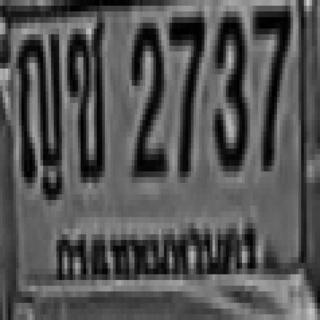A10: (66, 11, 104, 177)
A13: (15, 31, 61, 180)
N02: (129, 17, 161, 171)
N03: (212, 6, 245, 166)
N07: (250, 0, 288, 166), (167, 6, 202, 171)
P04: (53, 219, 266, 289)
